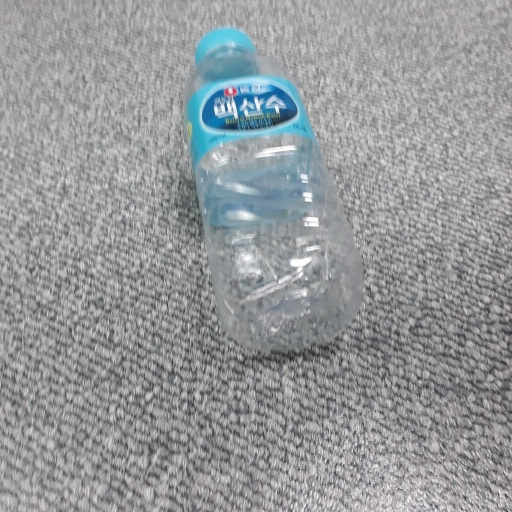Plastic_0: (184, 26, 362, 355)
